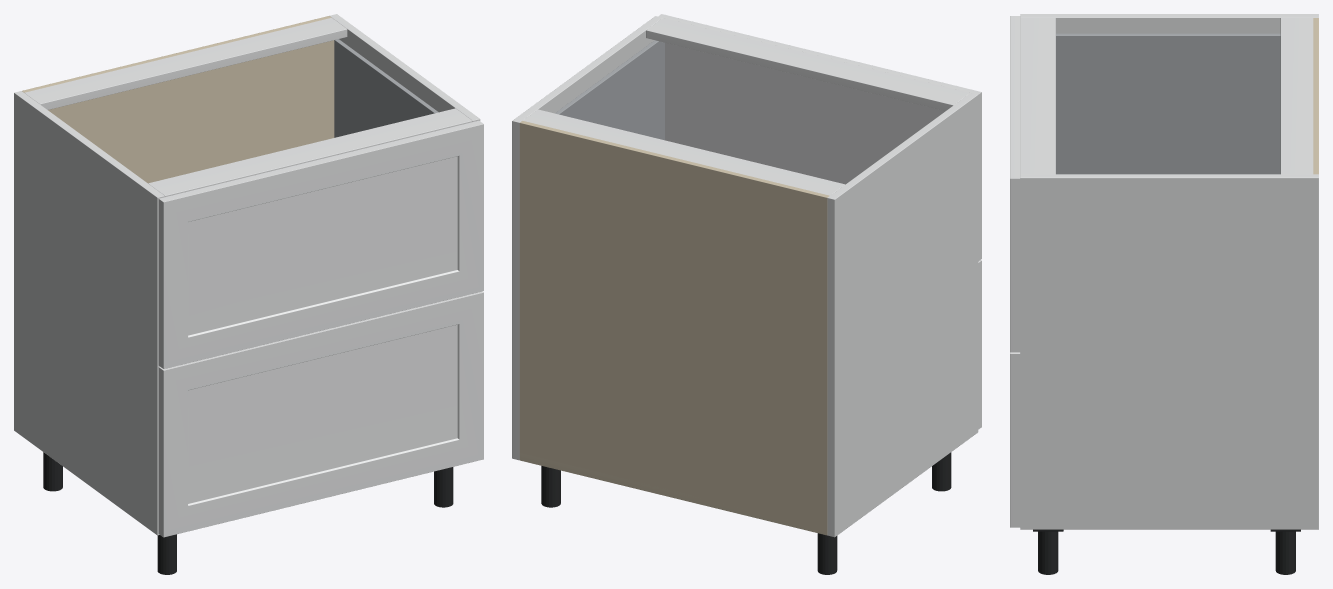
The model's file is PLY-WSS-2DB30.glb.
3 views of the same model, side by side, from view 1: azimuth 30°, elevation 25°; view 2: azimuth 150°, elevation 25°; view 3: azimuth 270°, elevation 25° (orthographic). The views are drawn at different scales.
Parts seen in each view (by area): view 1: Drawer front.001, Drawer front, Carcass left, Drawer back.001, Top support rail, Top support rail.001, Metal drawer side.003, Carcass right, Carcass back, Adjustable foot.001, Adjustable foot.003, Adjustable foot; view 2: Carcass back, Carcass left, Drawer front.001, Top support rail.001, Metal drawer side.003, Carcass right, Top support rail, Carcass bottom, Adjustable foot, Adjustable foot.002, Drawer front, Adjustable foot.001; view 3: Carcass right, Metal drawer side.002, Top support rail.001, Top support rail, Carcass left, Drawer front.001, Drawer front, Carcass back, Adjustable foot.003, Adjustable foot.002.
Boxes of the visible parts, x1,y1,x2,y2 form: Drawer front.001: [158, 120, 483, 368]; Drawer front: [158, 291, 483, 537]; Carcass left: [14, 91, 164, 535]; Drawer back.001: [48, 40, 334, 183]; Top support rail: [24, 17, 347, 109]; Top support rail.001: [148, 108, 472, 196]; Metal drawer side.003: [334, 39, 438, 137]; Carcass right: [329, 14, 480, 121]; Carcass back: [22, 16, 331, 92]; Adjustable foot.001: [157, 534, 176, 574]; Adjustable foot.003: [434, 467, 453, 507]; Adjustable foot: [43, 452, 62, 491]; Carcass back: [519, 120, 829, 535]; Carcass left: [827, 93, 978, 537]; Drawer front.001: [658, 14, 981, 261]; Top support rail.001: [646, 18, 969, 110]; Metal drawer side.003: [555, 40, 664, 140]; Carcass right: [512, 16, 662, 460]; Top support rail: [523, 109, 844, 195]; Carcass bottom: [520, 453, 826, 534]; Adjustable foot: [817, 533, 837, 574]; Adjustable foot.002: [541, 466, 560, 507]; Drawer front: [978, 260, 981, 429]; Adjustable foot.001: [932, 452, 951, 491]; Carcass right: [1020, 174, 1318, 529]; Metal drawer side.002: [1056, 33, 1280, 174]; Top support rail.001: [1020, 18, 1055, 174]; Top support rail: [1280, 18, 1313, 174]; Carcass left: [1020, 14, 1318, 33]; Drawer front.001: [1010, 16, 1020, 352]; Drawer front: [1010, 352, 1020, 527]; Carcass back: [1313, 18, 1318, 174]; Adjustable foot.003: [1038, 531, 1058, 574]; Adjustable foot.002: [1275, 531, 1295, 574].
Bounding box in the file's own units: 0.762 × 0.8763 × 0.6064.
